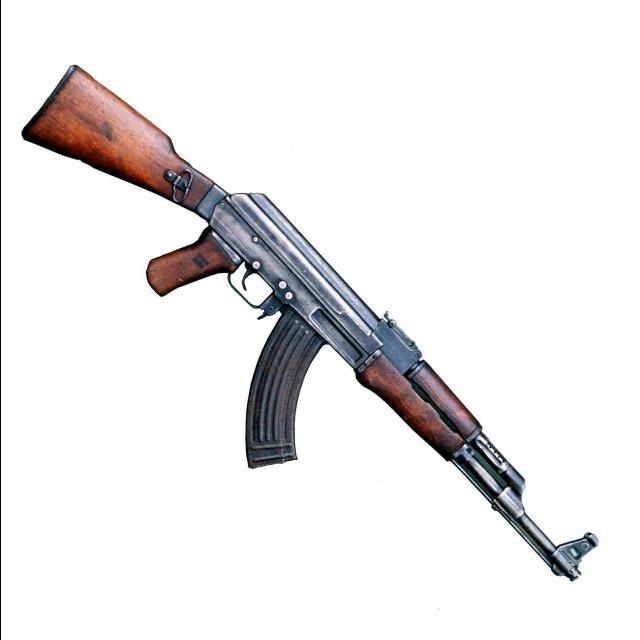rifle: (1, 56, 604, 590)
